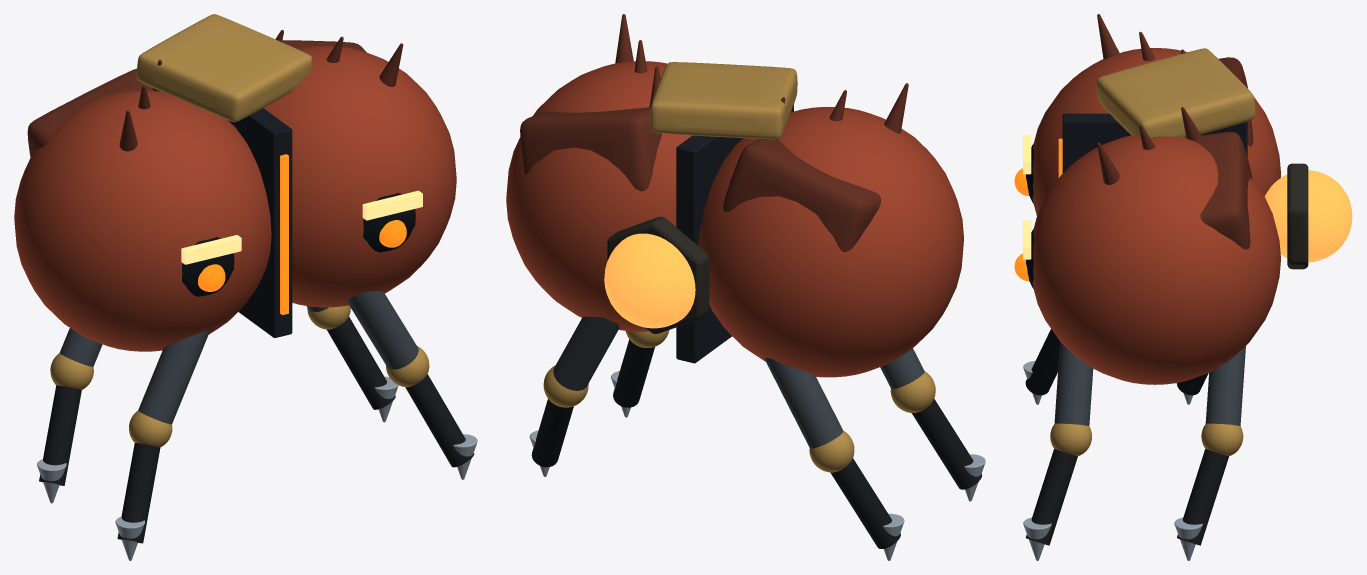
File: splitter.glb
3 renders of one model, left to right at view 1: azimuth 30°, elevation 25°; view 2: azimuth 150°, elevation 25°; view 3: azimuth 270°, elevation 25°, orthographic. The views are drawn at different scales.
Parts seen in each view (by area): view 1: Core-1, Core1, CrownPlate, Crack, LegU-11.001, LegU11.001, LegL10, LegL11.001, LegL-11.001, LegL-10, CoreCap-1, CrackGlow (+13 smaller); view 2: Core-1, Core1, CrownPlate, CoreCap-1, CoreCap1, ReactorCell.002, Crack, LegU-10, ReactorCage, LegU10, LegL-11.001, LegL-10 (+7 smaller); view 3: Core1, CrownPlate, Core-1, ReactorCell.002, CoreCap1, Crack, LegU11.001, ReactorCage, LegU10, LegL11.001, LegL10, LegL-11.001 (+7 smaller).
Boxes of the visible parts, x1,y1,x2,y2 form: Core-1: [14, 90, 271, 351]; Core1: [263, 46, 456, 307]; CrownPlate: [136, 14, 312, 122]; Crack: [228, 108, 292, 337]; LegU-11.001: [138, 330, 209, 424]; LegU11.001: [347, 291, 418, 369]; LegL10: [327, 317, 395, 409]; LegL11.001: [405, 374, 474, 467]; LegL-11.001: [117, 443, 160, 543]; LegL-10: [39, 385, 81, 485]; CoreCap-1: [27, 68, 153, 157]; CrackGlow: [280, 154, 288, 314]; Core-1: [698, 107, 963, 377]; Core1: [506, 61, 692, 331]; CrownPlate: [650, 62, 797, 139]; CoreCap-1: [723, 139, 880, 251]; CoreCap1: [520, 107, 661, 191]; ReactorCell.002: [604, 233, 695, 328]; Crack: [676, 105, 793, 363]; LegU-10: [764, 357, 843, 448]; ReactorCage: [607, 216, 709, 333]; LegU10: [553, 316, 619, 390]; LegL-11.001: [911, 399, 982, 489]; LegL-10: [830, 458, 900, 548]; Core1: [1032, 135, 1280, 384]; CrownPlate: [1096, 48, 1255, 137]; Core-1: [1032, 48, 1280, 215]; ReactorCell.002: [1264, 170, 1352, 262]; CoreCap1: [1194, 132, 1252, 249]; Crack: [1062, 113, 1247, 173]; LegU11.001: [1054, 341, 1093, 425]; ReactorCage: [1287, 163, 1308, 269]; LegU10: [1205, 346, 1245, 426]; LegL11.001: [1025, 449, 1077, 545]; LegL10: [1177, 449, 1228, 545]; LegL-11.001: [1025, 329, 1059, 395].
Size of the model in its own units: 1.08 by 1.06 by 0.805.
